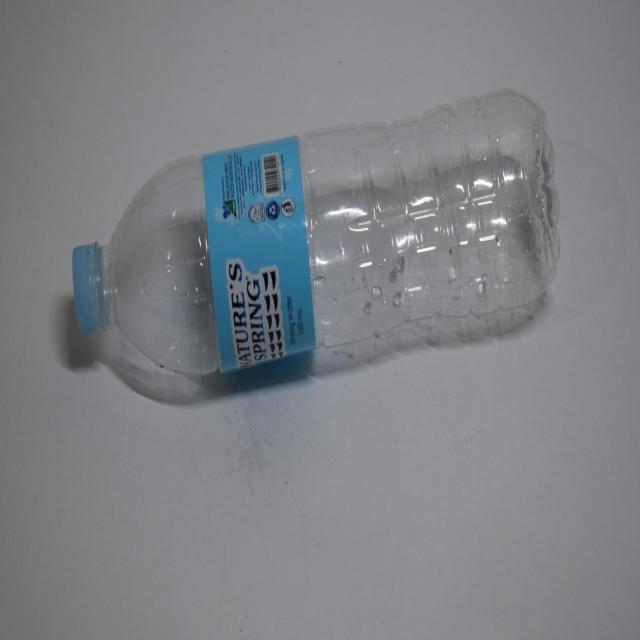bottle: (70, 84, 564, 379)
